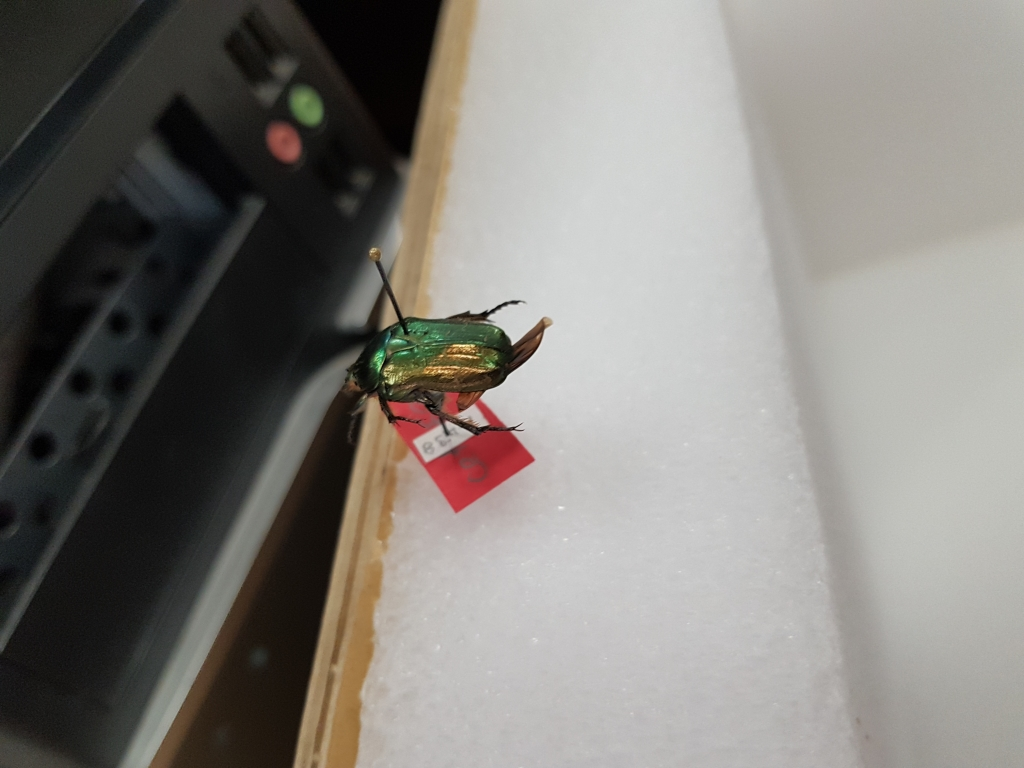Cetonia_kemali: (335, 291, 554, 441)
